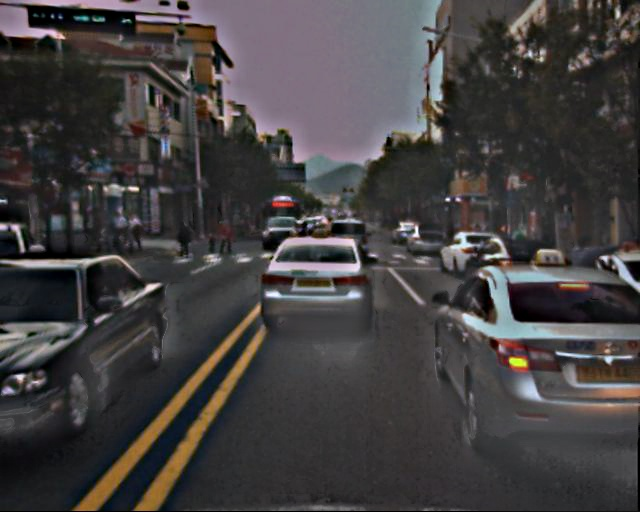person: (563, 234, 608, 343), (98, 205, 149, 248), (178, 215, 199, 264), (216, 216, 232, 255), (204, 229, 215, 256)
